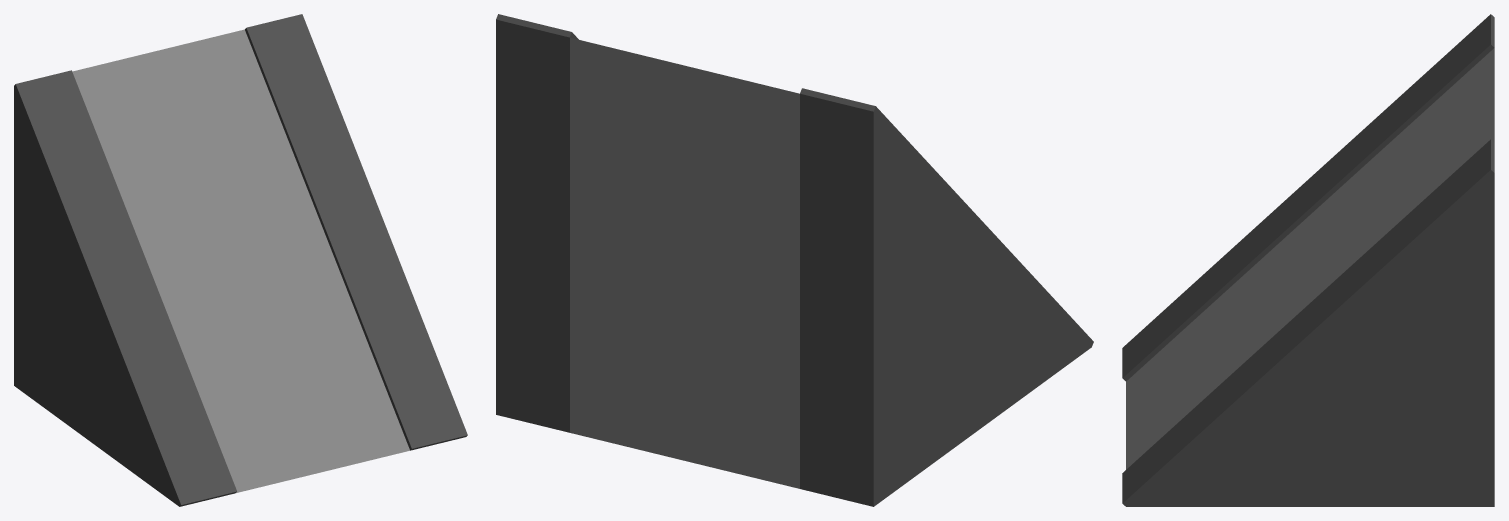
The model's file is incline.fbx.
3 views of the same model, side by side, from view 1: azimuth 30°, elevation 25°; view 2: azimuth 150°, elevation 25°; view 3: azimuth 270°, elevation 25° (orthographic). The views are drawn at different scales.
Visible parts, largest first — view 1: incline_geo; view 2: incline_geo; view 3: incline_geo.
Part boxes in pixels (x1,y1,x2,y2): incline_geo: (14, 14, 467, 506); incline_geo: (496, 14, 1093, 506); incline_geo: (1122, 14, 1494, 506).
Bounding box in the file's own units: 2 × 2.02 × 2.02.
